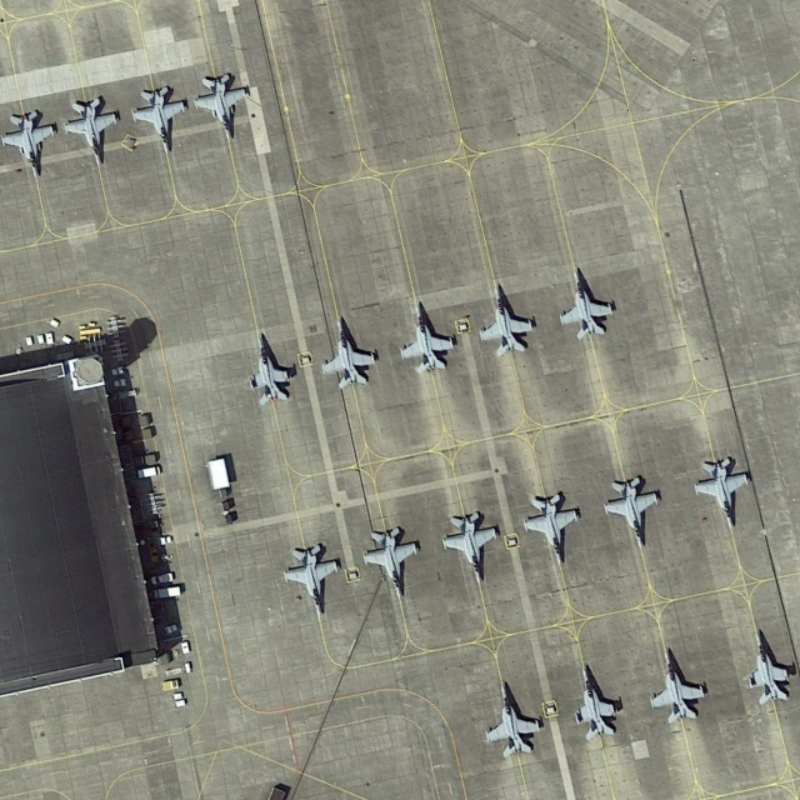A16: (551, 254, 627, 350), (643, 634, 716, 732), (433, 500, 509, 593), (516, 483, 592, 576), (684, 447, 760, 539), (275, 536, 352, 624), (476, 675, 553, 762), (472, 272, 544, 361), (357, 516, 428, 606), (126, 72, 194, 161), (393, 291, 459, 382), (598, 468, 670, 551), (565, 655, 631, 745), (60, 84, 126, 173), (318, 308, 386, 393), (192, 61, 255, 147), (740, 621, 797, 710), (2, 98, 57, 190), (243, 325, 299, 409)
